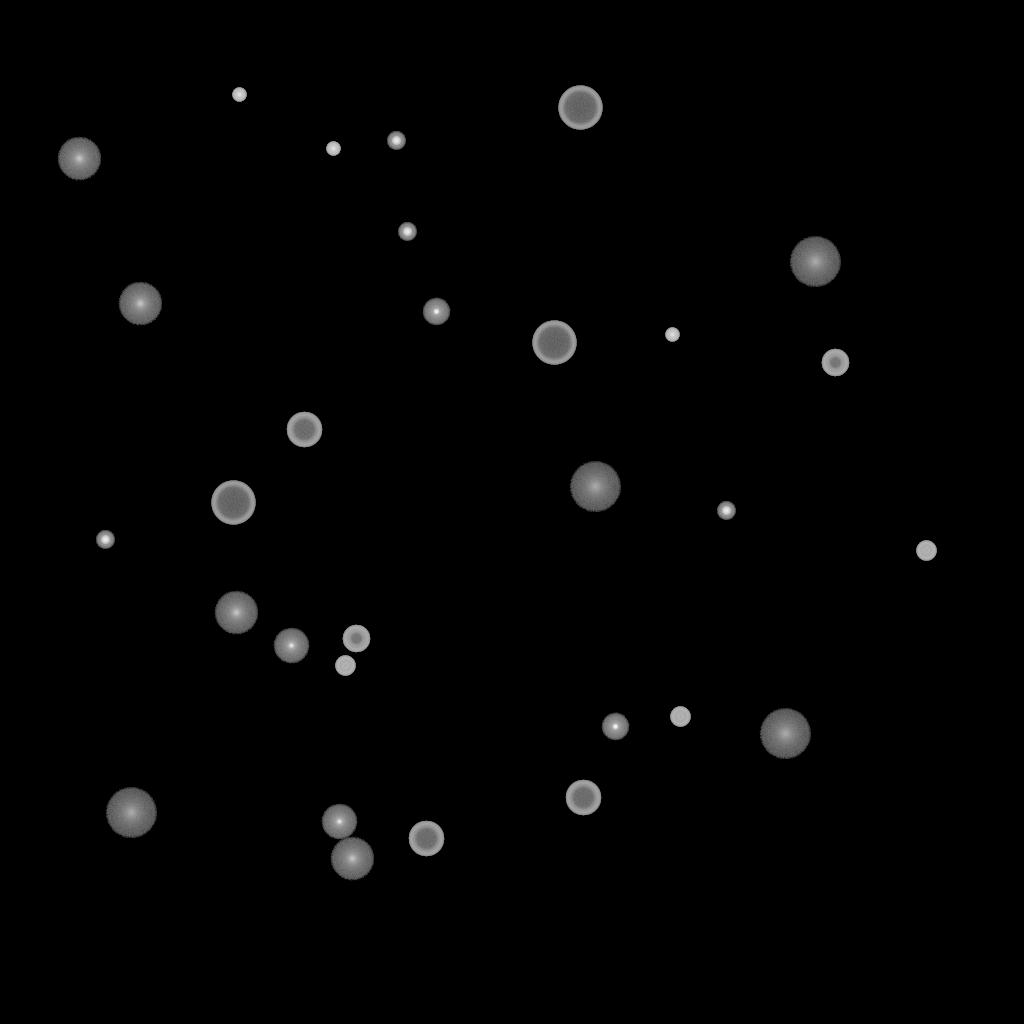depth:-10: (422, 298, 450, 326), (601, 713, 629, 741)
depth:-20: (387, 132, 405, 150), (96, 531, 114, 549), (717, 502, 735, 520), (398, 223, 416, 241)
depth:-30: (232, 88, 246, 102), (665, 328, 679, 342), (326, 142, 340, 156)
depth:-40: (916, 541, 936, 561), (670, 707, 690, 727), (335, 656, 355, 676)
depth:-50: (342, 625, 370, 653), (821, 349, 849, 377)
depth:-60: (286, 412, 322, 448), (565, 780, 601, 816), (408, 821, 444, 857)
depth:-70: (558, 86, 602, 130), (211, 481, 255, 525), (532, 321, 576, 365)
depth:0: (273, 628, 309, 664), (321, 804, 357, 840)
depth:10: (118, 282, 162, 326), (57, 137, 101, 181), (214, 591, 258, 635), (330, 837, 374, 881)
depth:20: (569, 462, 621, 512), (105, 788, 157, 838), (789, 237, 841, 287), (759, 709, 811, 759)
